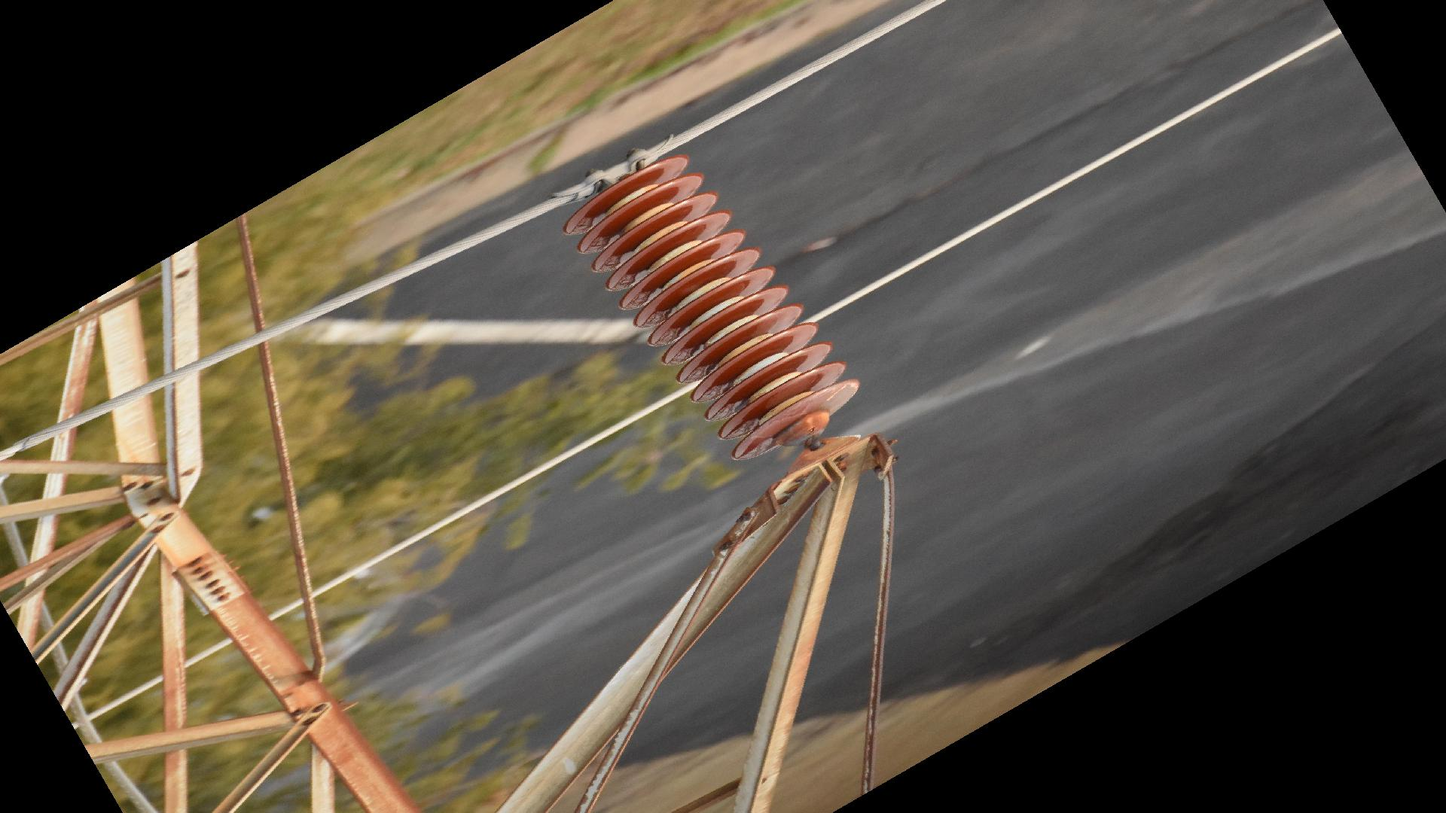insulator: (556, 148, 863, 466)
insulator_flashover: (818, 382, 860, 412)
